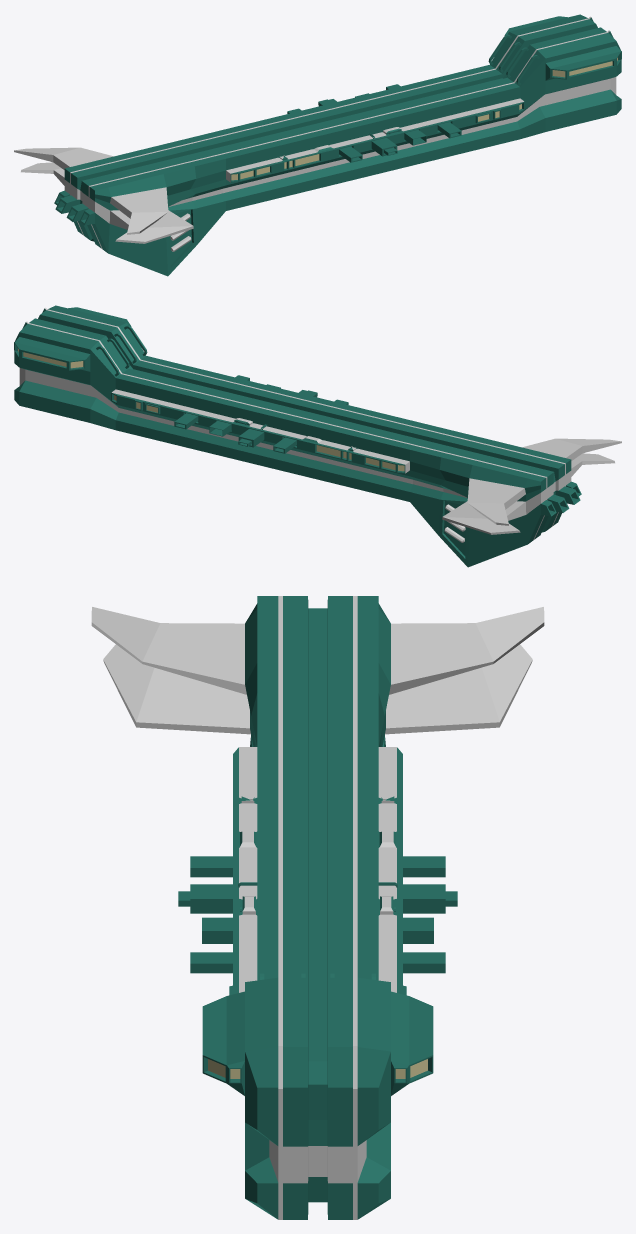
The model's file is Carrier.fbx.
The picture shows the model from 3 angles, top to bottom: view 1: azimuth 30°, elevation 25°; view 2: azimuth 150°, elevation 25°; view 3: azimuth 270°, elevation 25°; orthographic projection. The views are drawn at different scales.
Parts seen in each view (by area): view 1: Carrier; view 2: Carrier; view 3: Carrier.
Part boxes in pixels (box(x1,y1,x2,y2)): Carrier: box(14, 14, 621, 276); Carrier: box(14, 305, 621, 567); Carrier: box(91, 596, 544, 1219).
Size of the model in its own units: 2067 by 465 by 745.
